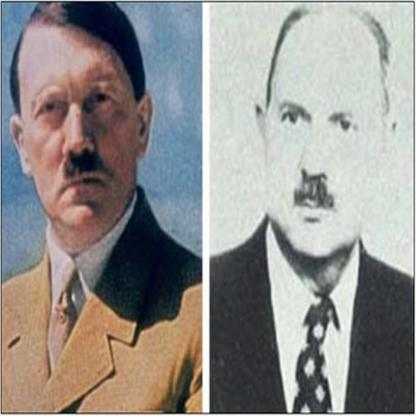face: (268, 22, 388, 258), (21, 27, 137, 225)
